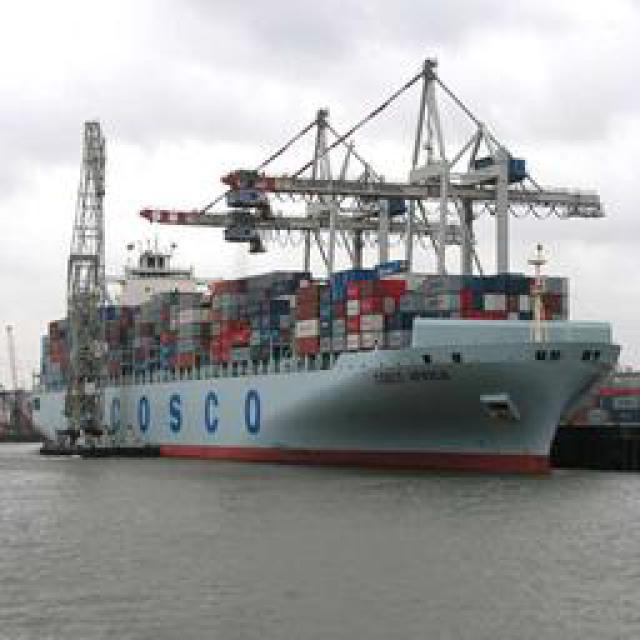Ship: (40, 54, 620, 477)
